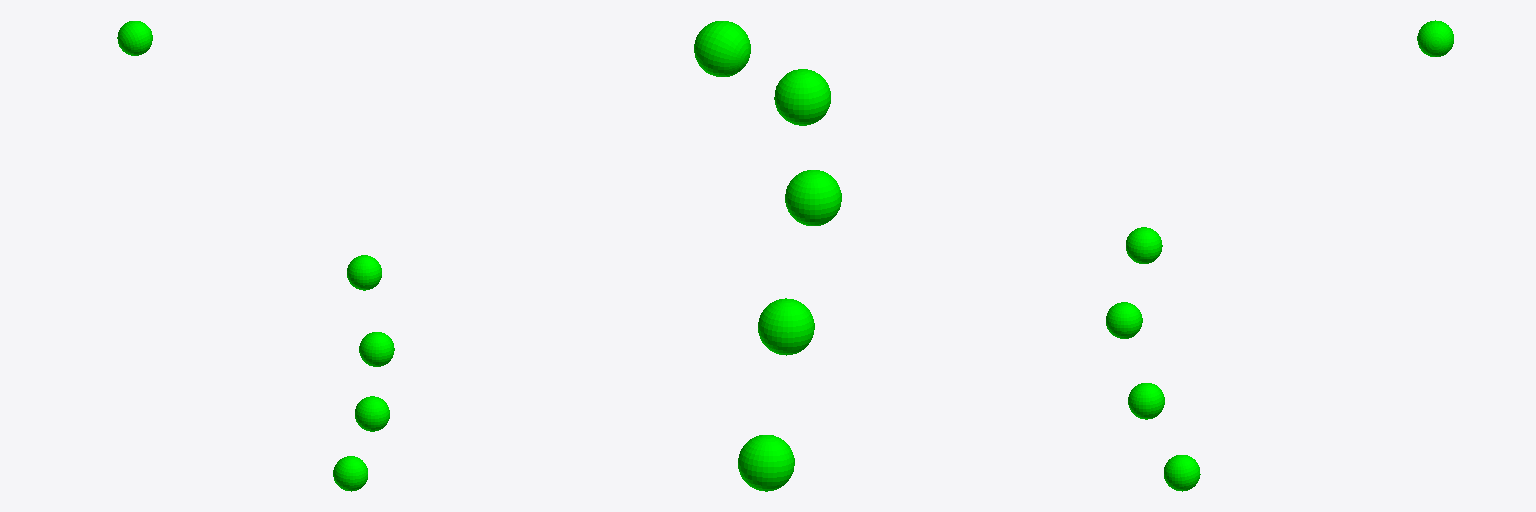
URDF robot description (h1):
<robot
  name="h1">

    <link name="L_hand_base_link">
      <inertial>
        <origin
          xyz="-0.002551 -0.066047 -0.0019357"
          rpy="0 0 0" />
        <mass
          value="0.14143" />
        <inertia
          ixx="0.0001234"
          ixy="2.1995E-06"
          ixz="-1.7694E-06"
          iyy="8.3835E-05"
          iyz="1.5968E-06"
          izz="7.7231E-05" />
      </inertial>
      <visual>
        <origin
          xyz="0 0 0"
          rpy="0 0 0" />
        <geometry>
          <mesh filename="./meshes/L_hand_base_link.STL" />
        </geometry>
        <material name="">
          <color rgba="0.1 0.1 0.1 1" />
        </material>
      </visual>
      <collision>
        <origin
          xyz="0 0 0"
          rpy="0 0 0" />
        <geometry>
          <mesh filename="./meshes/L_hand_base_link.STL" />
        </geometry>
      </collision>
    </link>

    <link name="L_thumb_proximal_base">
      <inertial>
        <origin
          xyz="0.0048817 0.00038782 -0.00722"
          rpy="0 0 0" />
        <mass
          value="0.0018869" />
        <inertia
          ixx="5.5158E-08"
          ixy="-1.1803E-08"
          ixz="-4.6743E-09"
          iyy="8.2164E-08"
          iyz="-1.3521E-09"
          izz="6.7434E-08" />
      </inertial>
      <visual>
        <origin
          xyz="0 0 0"
          rpy="0 0 0" />
        <geometry>
          <mesh filename="./meshes/Link11_L.STL" />
        </geometry>
        <material name="">
          <color rgba="0.1 0.1 0.1 1" />
        </material>
      </visual>
      <collision>
        <origin
          xyz="0 0 0"
          rpy="0 0 0" />
        <geometry>
          <mesh filename="./meshes/Link11_L.STL" />
        </geometry>
      </collision>
    </link>

    <joint
      name="L_thumb_proximal_yaw_joint"
      type="revolute">
      <origin
        xyz="-0.01696 -0.0691 0.02045"
        rpy="1.5708 -1.5708 0" />
      <parent
        link="L_hand_base_link" />
      <child
        link="L_thumb_proximal_base" />
      <axis
        xyz="0 0 1" />
      <limit
        lower="0.0"
        upper="1.3090"
        effort="1"
        velocity="0.5" />
    </joint>

    <link name="L_thumb_proximal">
      <inertial>
        <origin
          xyz="0.021936 -0.01279 -0.0080386"
          rpy="0 0 0" />
        <mass
          value="0.0066101" />
        <inertia
          ixx="1.5693E-06"
          ixy="7.8339E-07"
          ixz="8.5959E-10"
          iyy="1.7356E-06"
          iyz="1.0378E-09"
          izz="2.787E-06" />
      </inertial>
      <visual>
        <origin
          xyz="0 0 0"
          rpy="0 0 0" />
        <geometry>
          <mesh filename="./meshes/Link12_L.STL" />
        </geometry>
        <material name="">
          <color rgba="0.1 0.1 0.1 1" />
        </material>
      </visual>
      <collision>
        <origin
          xyz="0 0 0"
          rpy="0 0 0" />
        <geometry>
          <mesh filename="./meshes/Link12_L.STL" />
        </geometry>
      </collision>
    </link>

    <joint
      name="L_thumb_proximal_pitch_joint"
      type="revolute">
      <origin
        xyz="0.0099867 0.0098242 -0.0089"
        rpy="-1.5708 0 0.16939" />
      <parent
        link="L_thumb_proximal_base" />
      <child
        link="L_thumb_proximal" />
      <axis
        xyz="0 0 -1" />
      <limit
        lower="0.0"
        upper="0.4712"
        effort="1"
        velocity="0.5" />
    </joint>

    <link name="L_thumb_intermediate">
      <inertial>
        <origin
          xyz="0.0095531 0.0016282 -0.0072002"
          rpy="0 0 0" />
        <mass
          value="0.0037844" />
        <inertia
          ixx="3.6981E-07"
          ixy="9.8603E-08"
          ixz="-2.8173E-12"
          iyy="3.2395E-07"
          iyz="-2.8028E-12"
          izz="4.6532E-07" />
      </inertial>
      <visual>
        <origin
          xyz="0 0 0"
          rpy="0 0 0" />
        <geometry>
          <mesh filename="./meshes/Link13_L.STL" />
        </geometry>
        <material name="">
          <color rgba="0.1 0.1 0.1 1" />
        </material>
      </visual>
      <collision>
        <origin
          xyz="0 0 0"
          rpy="0 0 0" />
        <geometry>
          <mesh filename="./meshes/Link13_L.STL" />
        </geometry>
      </collision>
    </link>

    <joint
      name="L_thumb_intermediate_joint"
      type="revolute">
      <origin
        xyz="0.04407 -0.034553 -0.0008"
        rpy="0 0 0" />
      <parent
        link="L_thumb_proximal" />
      <child
        link="L_thumb_intermediate" />
      <axis
        xyz="0 0 -1" />
      <limit
        lower="0"
        upper="0.8"
        effort="1"
        velocity="0.5" />
      <mimic
        joint="L_thumb_proximal_pitch_joint"
        multiplier="1.142"
        offset="0.490" />
    </joint>

    <link name="L_thumb_distal">
      <inertial>
        <origin
          xyz="0.0092888 -0.004953 -0.0060033"
          rpy="0 0 0" />
        <mass
          value="0.003344" />
        <inertia
          ixx="1.3632E-07"
          ixy="5.6787E-08"
          ixz="-9.1939E-11"
          iyy="1.4052E-07"
          iyz="1.2145E-10"
          izz="2.0026E-07" />
      </inertial>
      <visual>
        <origin
          xyz="0 0 0"
          rpy="0 0 0" />
        <geometry>
          <mesh filename="./meshes/Link14_L.STL" />
        </geometry>
        <material name="">
          <color rgba="0.1 0.1 0.1 1" />
        </material>
      </visual>
      <collision>
        <origin
          xyz="0 0 0"
          rpy="0 0 0" />
        <geometry>
          <mesh filename="./meshes/Link14_L.STL" />
        </geometry>
      </collision>
    </link>

    <joint
      name="L_thumb_distal_joint"
      type="revolute">
      <origin
        xyz="0.020248 -0.010156 -0.0012"
        rpy="0 0 0" />
      <parent
        link="L_thumb_intermediate" />
      <child
        link="L_thumb_distal" />
      <axis
        xyz="0 0 -1" />
      <limit
        lower="0"
        upper="1.2"
        effort="1"
        velocity="0.5" />
      <mimic 
        joint="L_thumb_proximal_pitch_joint"
        multiplier="0.864"
        offset="0.907" />
    </joint>

    <link name="L_index_proximal">
      <inertial>
        <origin
          xyz="0.0012971 -0.011934 -0.0059998"
          rpy="0 0 0" />
        <mass
          value="0.0042405" />
        <inertia
          ixx="6.6215E-07"
          ixy="1.8442E-08"
          ixz="1.3746E-12"
          iyy="2.1167E-07"
          iyz="-1.4773E-11"
          izz="6.9402E-07" />
      </inertial>
      <visual>
        <origin
          xyz="0 0 0"
          rpy="0 0 0" />
        <geometry>
          <mesh filename="./meshes/Link15_L.STL" />
        </geometry>
        <material name="">
          <color rgba="0.1 0.1 0.1 1" />
        </material>
      </visual>
      <collision>
        <origin
          xyz="0 0 0"
          rpy="0 0 0" />
        <geometry>
          <mesh filename="./meshes/Link15_L.STL" />
        </geometry>
      </collision>
    </link>

    <link name="L_thumb_tip">
    <visual>
      <origin
        xyz="0 0 0"
        rpy="0 0 0" />
      <geometry>
        <sphere radius="0.005"/>
      </geometry>
      <material name="green">
        <color rgba="0 1 0 1" />
      </material>
    </visual>
  </link>
  <joint name="L_thumb_tip_joint" type="fixed">
    <parent link="L_thumb_distal"/>
    <child link="L_thumb_tip"/>
    <origin rpy="0 0 0" xyz="0.015 -0.013 -0.004"/>
  </joint>

    <joint
      name="L_index_proximal_joint"
      type="revolute">
      <origin
        xyz="0.00028533 -0.13653 0.032268"
        rpy="-0.034907 0 0" />
      <parent
        link="L_hand_base_link" />
      <child
        link="L_index_proximal" />
      <axis
        xyz="0 0 -1" />
      <limit
        lower="0"
        upper="1.3090"
        effort="1"
        velocity="0.5" />
    </joint>

    <link name="L_index_intermediate">
      <inertial>
        <origin
          xyz="0.0021753 -0.019567 -0.005"
          rpy="0 0 0" />
        <mass
          value="0.0045682" />
        <inertia
          ixx="7.6284E-07"
          ixy="-8.063E-08"
          ixz="3.6797E-13"
          iyy="9.4308E-08"
          iyz="1.5743E-13"
          izz="7.8176E-07" />
      </inertial>
      <visual>
        <origin
          xyz="0 0 0"
          rpy="0 0 0" />
        <geometry>
          <mesh filename="./meshes/Link16_L.STL" />
        </geometry>
        <material name="">
          <color rgba="0.1 0.1 0.1 1" />
        </material>
      </visual>
      <collision>
        <origin
          xyz="0 0 0"
          rpy="0 0 0" />
        <geometry>
          <mesh filename="./meshes/Link16_L.STL" />
        </geometry>
      </collision>
    </link>

    <joint
      name="L_index_intermediate_joint"
      type="revolute">
      <origin
        xyz="-0.0024229 -0.032041 -0.001"
        rpy="0 0 0" />
      <parent
        link="L_index_proximal" />
      <child
        link="L_index_intermediate" />
      <axis
        xyz="0 0 -1" />
      <limit
        lower="0"
        upper="1.7"
        effort="1"
        velocity="0.5" />
      <mimic 
        joint="L_index_proximal_joint"
        multiplier="1.117"
        offset="-0.187" />
    </joint>

    <link name="L_index_tip">
    <visual>
      <origin
        xyz="0 0 0"
        rpy="0 0 0" />
      <geometry>
        <sphere radius="0.005"/>
      </geometry>
      <material name="green">
        <color rgba="0 1 0 1" />
      </material>
    </visual>
  </link>
  <joint name="L_index_tip_joint" type="fixed">
    <parent link="L_index_intermediate"/>
    <child link="L_index_tip"/>
    <origin rpy="0 0 0" xyz="-0.005 -0.04 -0.004"/>
  </joint>

    <link name="L_middle_proximal">
      <inertial>
        <origin
          xyz="0.0012971 -0.011934 -0.0059999"
          rpy="0 0 0" />
        <mass
          value="0.0042405" />
        <inertia
          ixx="6.6215E-07"
          ixy="1.8442E-08"
          ixz="1.2299E-12"
          iyy="2.1167E-07"
          iyz="-1.4484E-11"
          izz="6.9402E-07" />
      </inertial>
      <visual>
        <origin
          xyz="0 0 0"
          rpy="0 0 0" />
        <geometry>
          <mesh filename="./meshes/Link17_L.STL" />
        </geometry>
        <material name="">
          <color rgba="0.1 0.1 0.1 1" />
        </material>
      </visual>
      <collision>
        <origin
          xyz="0 0 0"
          rpy="0 0 0" />
        <geometry>
          <mesh filename="./meshes/Link17_L.STL" />
        </geometry>
      </collision>
    </link>

    <joint
      name="L_middle_proximal_joint"
      type="revolute">
      <origin
        xyz="0.00028533 -0.1371 0.01295"
        rpy="0 0 0" />
      <parent
        link="L_hand_base_link" />
      <child
        link="L_middle_proximal" />
      <axis
        xyz="0 0 -1" />
      <limit
        lower="0"
        upper="1.3090"
        effort="1"
        velocity="0.5" />
    </joint>

    <link name="L_middle_intermediate">
      <inertial>
        <origin
          xyz="0.001921 -0.020796 -0.0049999"
          rpy="0 0 0" />
        <mass
          value="0.0050397" />
        <inertia
          ixx="9.5823E-07"
          ixy="-1.1425E-07"
          ixz="-2.4186E-12"
          iyy="1.0646E-07"
          iyz="3.6974E-12"
          izz="9.8385E-07" />
      </inertial>
      <visual>
        <origin
          xyz="0 0 0"
          rpy="0 0 0" />
        <geometry>
          <mesh filename="./meshes/Link18_L.STL" />
        </geometry>
        <material name="">
          <color rgba="0.1 0.1 0.1 1" />
        </material>
      </visual>
      <collision>
        <origin
          xyz="0 0 0"
          rpy="0 0 0" />
        <geometry>
          <mesh filename="./meshes/Link18_L.STL" />
        </geometry>
      </collision>
    </link>
    
    <joint
      name="L_middle_intermediate_joint"
      type="revolute">
      <origin
        xyz="-0.0024229 -0.032041 -0.001"
        rpy="0 0 0" />
      <parent
        link="L_middle_proximal" />
      <child
        link="L_middle_intermediate" />
      <axis
        xyz="0 0 -1" />
      <limit
        lower="0"
        upper="1.7"
        effort="1"
        velocity="0.5" />
      <mimic 
        joint="L_middle_proximal_joint"
        multiplier="1.117"
        offset="-0.187" />
    </joint>

    <link name="L_middle_tip">
    <visual>
      <origin
        xyz="0 0 0"
        rpy="0 0 0" />
      <geometry>
        <sphere radius="0.005"/>
      </geometry>
      <material name="green">
        <color rgba="0 1 0 1" />
      </material>
    </visual>
  </link>
  <joint name="L_middle_tip_joint" type="fixed">
    <parent link="L_middle_intermediate"/>
    <child link="L_middle_tip"/>
    <origin rpy="0 0 0" xyz="-0.005 -0.045 -0.004"/>
  </joint>

    <link name="L_ring_proximal">
      <inertial>
        <origin
          xyz="0.0012971 -0.011934 -0.0059999"
          rpy="0 0 0" />
        <mass
          value="0.0042405" />
        <inertia
          ixx="6.6215E-07"
          ixy="1.8442E-08"
          ixz="9.6052E-13"
          iyy="2.1167E-07"
          iyz="-1.4124E-11"
          izz="6.9402E-07" />
      </inertial>
      <visual>
        <origin
          xyz="0 0 0"
          rpy="0 0 0" />
        <geometry>
          <mesh filename="./meshes/Link19_L.STL" />
        </geometry>
        <material name="">
          <color rgba="0.1 0.1 0.1 1" />
        </material>
      </visual>
      <collision>
        <origin
          xyz="0 0 0"
          rpy="0 0 0" />
        <geometry>
          <mesh filename="./meshes/Link19_L.STL" />
        </geometry>
      </collision>
    </link>

    <joint
      name="L_ring_proximal_joint"
      type="revolute">
      <origin
        xyz="0.00028533 -0.13691 -0.0062872"
        rpy="0.05236 0 0" />
      <parent
        link="L_hand_base_link" />
      <child
        link="L_ring_proximal" />
      <axis
        xyz="0 0 -1" />
      <limit
        lower="0"
        upper="1.3090"
        effort="1"
        velocity="0.5" />
    </joint>

    <link name="L_ring_intermediate">
      <inertial>
        <origin
          xyz="0.0021753 -0.019567 -0.005"
          rpy="0 0 0" />
        <mass
          value="0.0045682" />
        <inertia
          ixx="7.6285E-07"
          ixy="-8.0631E-08"
          ixz="3.3472E-14"
          iyy="9.4308E-08"
          iyz="-4.4773E-13"
          izz="7.8176E-07" />
      </inertial>
      <visual>
        <origin
          xyz="0 0 0"
          rpy="0 0 0" />
        <geometry>
          <mesh filename="./meshes/Link20_L.STL" />
        </geometry>
        <material name="">
          <color rgba="0.1 0.1 0.1 1" />
        </material>
      </visual>
      <collision>
        <origin
          xyz="0 0 0"
          rpy="0 0 0" />
        <geometry>
          <mesh filename="./meshes/Link20_L.STL" />
        </geometry>
      </collision>
    </link>

    <joint
      name="L_ring_intermediate_joint"
      type="revolute">
      <origin
        xyz="-0.0024229 -0.032041 -0.001"
        rpy="0 0 0" />
      <parent
        link="L_ring_proximal" />
      <child
        link="L_ring_intermediate" />
      <axis
        xyz="0 0 -1" />
      <limit
        lower="0"
        upper="1.7"
        effort="1"
        velocity="0.5" />
      <mimic 
        joint="L_ring_proximal_joint"
        multiplier="1.117"
        offset="-0.187" />
    </joint>

    <link name="L_ring_tip">
    <visual>
      <origin
        xyz="0 0 0"
        rpy="0 0 0" />
      <geometry>
        <sphere radius="0.005"/>
      </geometry>
      <material name="green">
        <color rgba="0 1 0 1" />
      </material>
    </visual>
  </link>
  <joint name="L_ring_tip_joint" type="fixed">
    <parent link="L_ring_intermediate"/>
    <child link="L_ring_tip"/>
    <origin rpy="0 0 0" xyz="-0.002 -0.04 -0.004"/>
  </joint>

    <link name="L_pinky_proximal">
      <inertial>
        <origin
          xyz="0.0012971 -0.011934 -0.0059999"
          rpy="0 0 0" />
        <mass
          value="0.0042405" />
        <inertia
          ixx="6.6215E-07"
          ixy="1.8442E-08"
          ixz="1.0279E-12"
          iyy="2.1167E-07"
          iyz="-1.4277E-11"
          izz="6.9402E-07" />
      </inertial>
      <visual>
        <origin
          xyz="0 0 0"
          rpy="0 0 0" />
        <geometry>
          <mesh filename="./meshes/Link21_L.STL" />
        </geometry>
        <material name="">
          <color rgba="0.1 0.1 0.1 1" />
        </material>
      </visual>
      <collision>
        <origin
          xyz="0 0 0"
          rpy="0 0 0" />
        <geometry>
          <mesh filename="./meshes/Link21_L.STL" />
        </geometry>
      </collision>
    </link>

    <joint
      name="L_pinky_proximal_joint"
      type="revolute">
      <origin
        xyz="0.00028533 -0.13571 -0.025488"
        rpy="0.10472 0 0" />
      <parent
        link="L_hand_base_link" />
      <child
        link="L_pinky_proximal" />
      <axis
        xyz="0 0 -1" />
      <limit
        lower="0"
        upper="1.3090"
        effort="1"
        velocity="0.5" />
    </joint>

    <link name="L_pinky_intermediate">
      <inertial>
        <origin
          xyz="0.0024788 -0.016208 -0.0050001"
          rpy="0 0 0" />
        <mass
          value="0.0036036" />
        <inertia
          ixx="4.3923E-07"
          ixy="-4.1355E-08"
          ixz="1.2263E-12"
          iyy="7.0315E-08"
          iyz="3.1311E-12"
          izz="4.4881E-07" />
      </inertial>
      <visual>
        <origin
          xyz="0 0 0"
          rpy="0 0 0" />
        <geometry>
          <mesh filename="./meshes/Link22_L.STL" />
        </geometry>
        <material name="">
          <color rgba="0.1 0.1 0.1 1" />
        </material>
      </visual>
      <collision>
        <origin
          xyz="0 0 0"
          rpy="0 0 0" />
        <geometry>
          <mesh filename="./meshes/Link22_L.STL" />
        </geometry>
      </collision>
    </link>

    <joint
      name="L_pinky_intermediate_joint"
      type="revolute">
      <origin
        xyz="-0.0024229 -0.032041 -0.001"
        rpy="0 0 0" />
      <parent
        link="L_pinky_proximal" />
      <child
        link="L_pinky_intermediate" />
      <axis
        xyz="0 0 -1" />
      <limit
        lower="0"
        upper="1.7"
        effort="1"
        velocity="0.5" />
      <mimic 
        joint="L_pinky_proximal_joint"
        multiplier="1.117"
        offset="-0.187" />
    </joint>

    <link name="L_pinky_tip">
    <visual>
      <origin
        xyz="0 0 0"
        rpy="0 0 0" />
      <geometry>
        <sphere radius="0.005"/>
      </geometry>
      <material name="green">
        <color rgba="0 1 0 1" />
      </material>
    </visual>
  </link>
  <joint name="L_pinky_tip_joint" type="fixed">
    <parent link="L_pinky_intermediate"/>
    <child link="L_pinky_tip"/>
    <origin rpy="0 0 0" xyz="-0.002 -0.032 -0.004"/>
  </joint>

</robot>

--- Render facts (derived) ---
3 views of the same robot in one strip: view 1: azimuth 30°, elevation 25°; view 2: azimuth 150°, elevation 25°; view 3: azimuth 270°, elevation 25° (orthographic).
Robot: h1 — 18 links, 17 joints (12 revolute, 5 fixed); root link L_hand_base_link; default pose: every joint at zero.
Links seen in each view (by area): view 1: L_ring_tip, L_thumb_tip, L_middle_tip, L_index_tip, L_pinky_tip; view 2: L_pinky_tip, L_ring_tip, L_thumb_tip, L_index_tip, L_middle_tip; view 3: L_middle_tip, L_ring_tip, L_index_tip, L_thumb_tip, L_pinky_tip.
Link boxes in pixels (box(x1,y1,x2,y2)): L_ring_tip: box(355, 396, 389, 431); L_thumb_tip: box(117, 21, 152, 55); L_middle_tip: box(359, 332, 394, 366); L_index_tip: box(347, 255, 381, 290); L_pinky_tip: box(333, 456, 367, 491); L_pinky_tip: box(738, 435, 794, 491); L_ring_tip: box(758, 298, 814, 355); L_thumb_tip: box(694, 21, 750, 76); L_index_tip: box(774, 69, 830, 125); L_middle_tip: box(785, 170, 841, 225); L_middle_tip: box(1106, 302, 1142, 338); L_ring_tip: box(1128, 383, 1164, 419); L_index_tip: box(1126, 227, 1162, 263); L_thumb_tip: box(1417, 20, 1453, 56); L_pinky_tip: box(1164, 455, 1200, 491).
Size in the robot's own frame: 0.0421 by 0.094 by 0.1248 metres.
Meshes: 13 distinct files referenced, 0 mesh visuals loaded (none loaded); not drawn: 13 (reference not matched to a file when rendering).